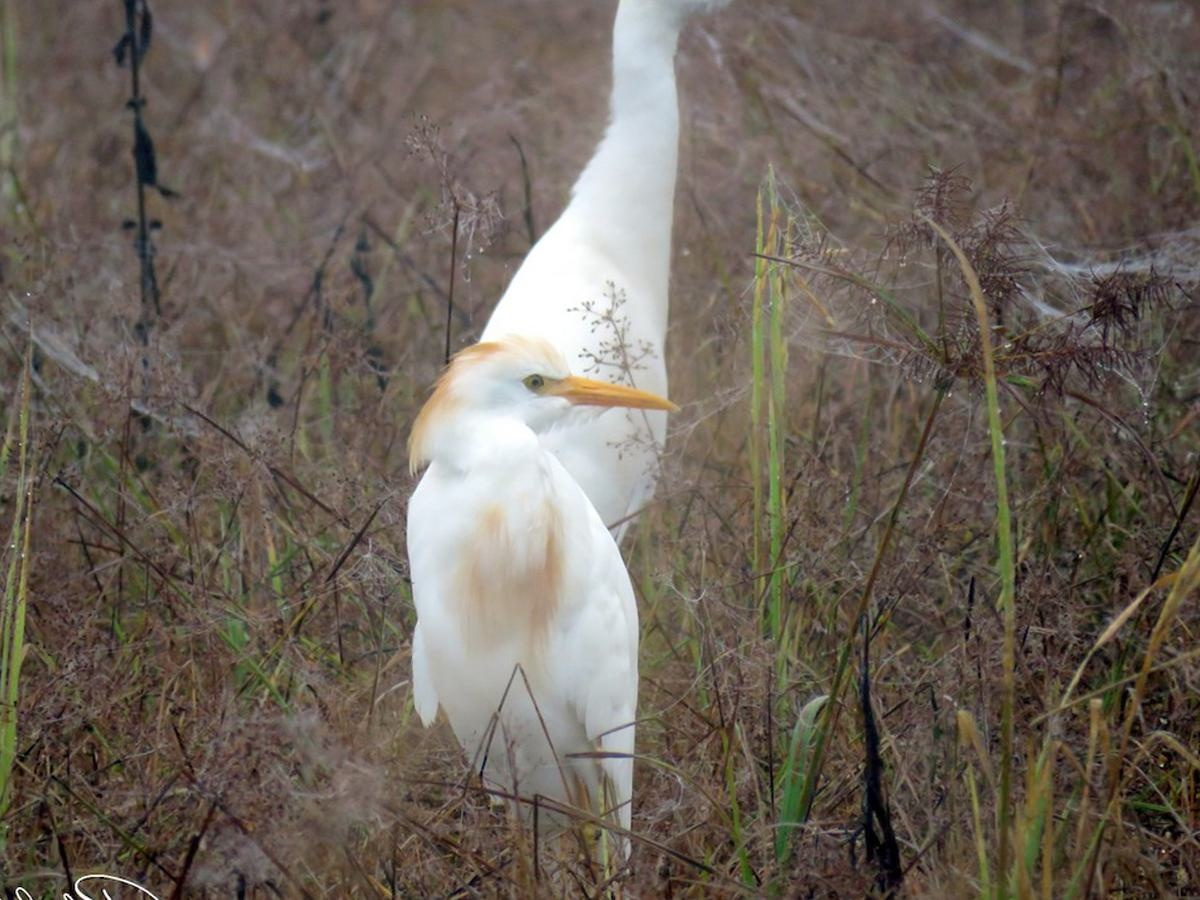egret: (382, 328, 709, 824)
